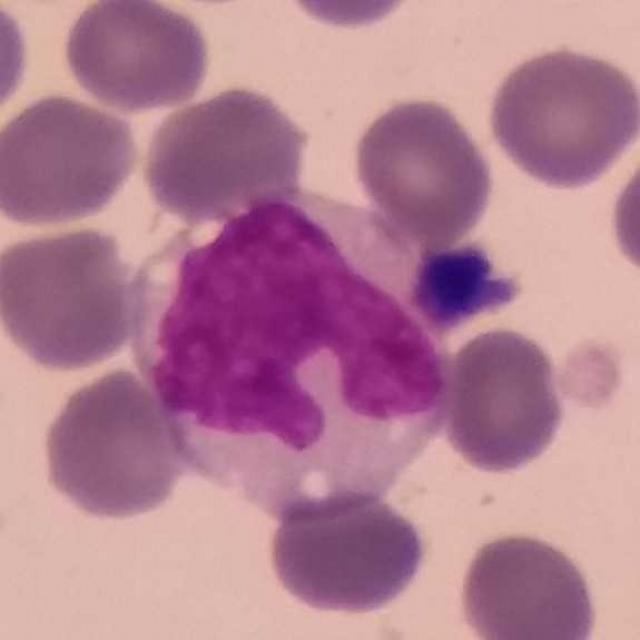Monocyte: (132, 192, 450, 521)
Platelets: (405, 236, 527, 335), (551, 330, 632, 420)
RBC: (136, 81, 314, 220), (36, 364, 190, 524), (483, 41, 640, 193), (348, 91, 499, 245), (263, 485, 432, 619), (0, 220, 144, 375), (0, 88, 142, 230), (438, 324, 570, 476), (58, 0, 216, 115), (453, 527, 601, 640), (604, 127, 640, 286), (274, 0, 428, 33), (0, 0, 35, 136)
